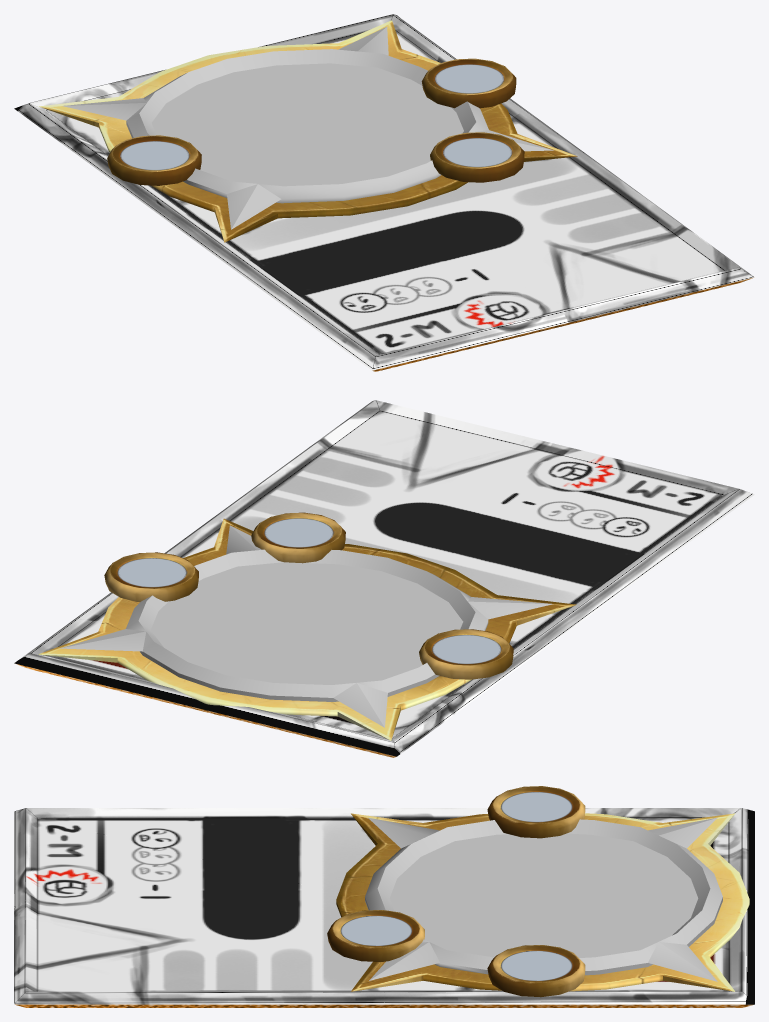
Rendered from GeMma_card_v2_Action_model.FBX.
3 views of the same model, one above another, from view 1: azimuth 30°, elevation 25°; view 2: azimuth 150°, elevation 25°; view 3: azimuth 270°, elevation 25° (orthographic). The views are drawn at different scales.
Parts seen in each view (by area): view 1: Card_icon, Action_icon, Card_icon002, Action_type_icon, Status_eff_icon, Status_eff_negate_icon; view 2: Card_icon, Action_icon, Card_icon002, Status_eff_icon, Status_eff_negate_icon, Action_type_icon; view 3: Card_icon, Action_icon, Card_icon002, Status_eff_negate_icon, Status_eff_icon, Action_type_icon.
Boxes of the visible parts, bbox=[...] form: Card_icon: bbox=[14, 14, 754, 371]; Action_icon: bbox=[62, 27, 553, 229]; Card_icon002: bbox=[38, 20, 577, 242]; Action_type_icon: bbox=[430, 132, 524, 182]; Status_eff_icon: bbox=[107, 135, 201, 185]; Status_eff_negate_icon: bbox=[421, 58, 516, 108]; Card_icon: bbox=[14, 400, 754, 757]; Action_icon: bbox=[60, 525, 553, 727]; Card_icon002: bbox=[38, 518, 576, 740]; Status_eff_icon: bbox=[419, 629, 513, 679]; Status_eff_negate_icon: bbox=[104, 552, 198, 601]; Action_type_icon: bbox=[251, 512, 345, 563]; Card_icon: bbox=[14, 808, 754, 1007]; Action_icon: bbox=[365, 817, 722, 981]; Card_icon002: bbox=[336, 813, 749, 991]; Status_eff_negate_icon: bbox=[487, 945, 585, 997]; Status_eff_icon: bbox=[487, 786, 585, 838]; Action_type_icon: bbox=[327, 910, 424, 962].
Bounding box in the file's own units: 46.34 × 3.5 × 72.42.
